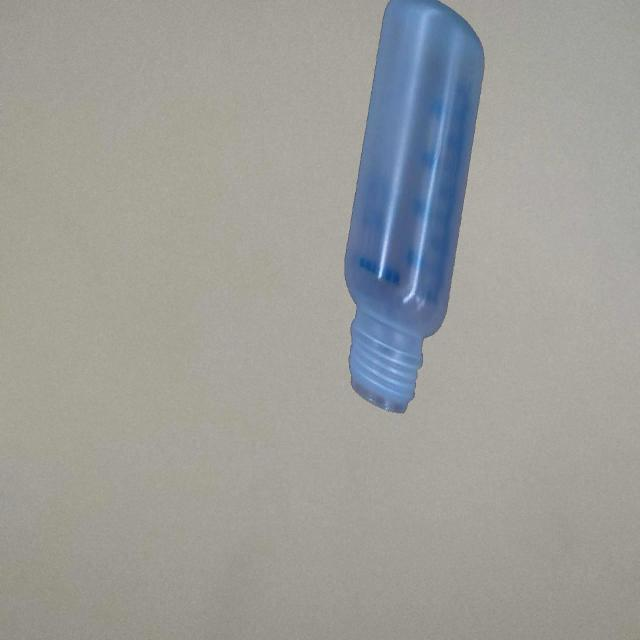bottle: (342, 0, 486, 420)
